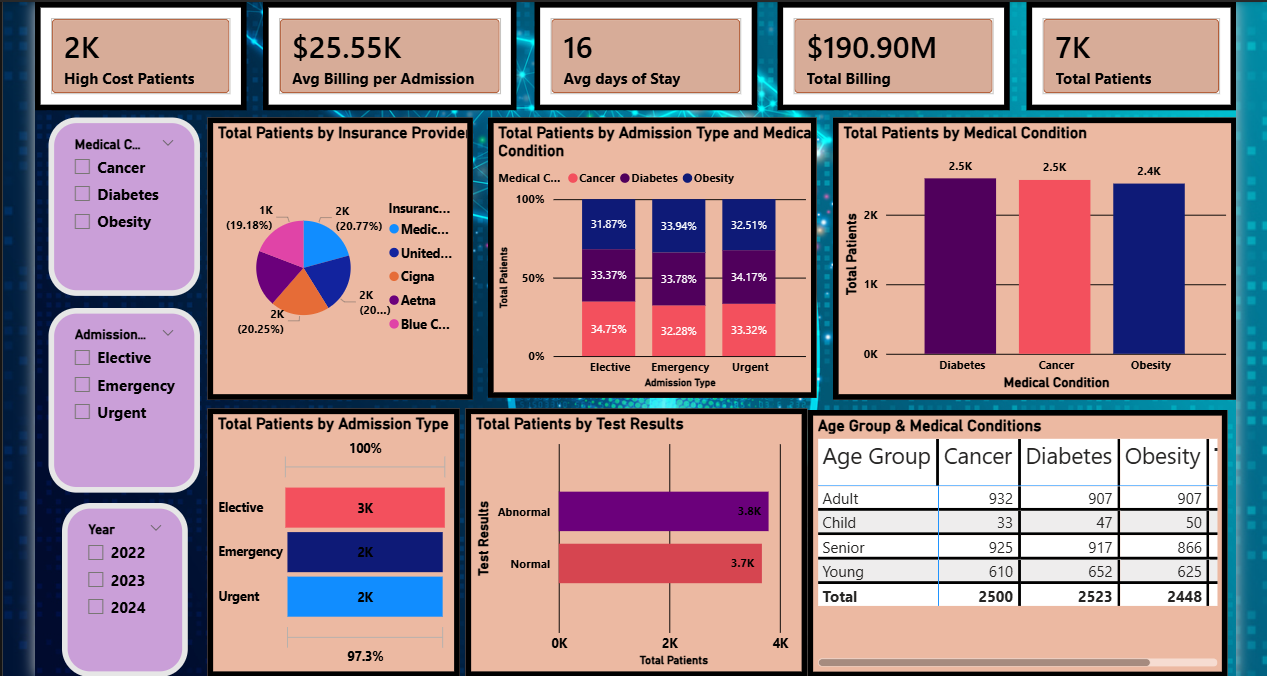

What the dashboard file says about the page in this screenshot:
{"tool":"powerbi","page":{"name":"Patient & Admission Analysis","canvas":[1280,720],"ordinal":0},"visuals":[{"type":"cardVisual","fields":{"Data":["Measures table.Total Patients"]},"box":[1056.1,0,223.7,115],"z":0},{"type":"cardVisual","fields":{"Data":["Measures table.Total Billing"]},"box":[790.5,0,247.2,115.5],"z":1000},{"type":"cardVisual","fields":{"Data":["Measures table.Avg Length of Stay"]},"box":[531.9,0,237.5,115.5],"z":2000},{"type":"cardVisual","fields":{"Data":["Measures table.Avg Billing per Admission"]},"box":[242.8,0,270,115],"z":3000},{"type":"cardVisual","fields":{"Data":["Measures table.High Cost Patients"]},"box":[0,0,225.3,115],"z":4000},{"type":"clusteredColumnChart","fields":{"Category":["healthcare_fact_table.Medical Condition"],"Y":["Measures table.Total Patients"]},"box":[850,123,429.8,300.4],"z":5000},{"type":"hundredPercentStackedColumnChart","fields":{"Category":["healthcare_fact_table.Admission Type"],"Y":["Measures table.Total Patients"],"Series":["healthcare_fact_table.Medical Condition"]},"box":[482.5,123,349.9,298.8],"z":6000},{"type":"funnel","fields":{"Category":["healthcare_fact_table.Admission Type"],"Y":["Measures table.Total Patients"]},"box":[183.7,433,268.4,286],"z":7000},{"type":"pieChart","fields":{"Category":["healthcare_fact_table.Insurance Provider"],"Y":["Measures table.Total Patients"]},"box":[183.7,123,282.8,300.4],"z":8000},{"type":"clusteredBarChart","fields":{"Category":["healthcare_fact_table.Test Results"],"Y":["Measures table.Total Patients"]},"box":[458.5,433,364.3,286],"z":9000},{"type":"pivotTable","title":"Age Group & Medical Conditions","fields":{"Values":["Measures table.Total Patients"],"Rows":["healthcare_fact_table.Age Group"],"Columns":["healthcare_fact_table.Medical Condition"]},"box":[822.8,434.6,447.3,284.4],"z":10000},{"type":"slicer","fields":{"Values":["healthcare_fact_table.Admission Type"]},"box":[14.4,325.9,161.4,196.5],"z":11000},{"type":"slicer","fields":{"Values":["healthcare_fact_table.Medical Condition"]},"box":[14.4,123,161.4,190.1],"z":12000},{"type":"slicer","fields":{"Values":["Calendar_Table.Year"]},"box":[28.8,533.6,134.2,185.3],"z":12001}]}

Visuals, with their boxes in screenshot pixels (x1, y1, x2, y2):
cardVisual - Measures table.Total Patients: BBox(1021, 3, 1229, 110)
cardVisual - Measures table.Total Billing: BBox(775, 3, 1004, 110)
cardVisual - Measures table.Avg Length of Stay: BBox(536, 3, 756, 110)
cardVisual - Measures table.Avg Billing per Admission: BBox(268, 3, 518, 110)
cardVisual - Measures table.High Cost Patients: BBox(43, 3, 252, 110)
clusteredColumnChart - healthcare_fact_table.Medical Condition x Measures table.Total Patients: BBox(830, 117, 1229, 396)
hundredPercentStackedColumnChart - healthcare_fact_table.Admission Type x Measures table.Total Patients: BBox(490, 117, 814, 394)
funnel - healthcare_fact_table.Admission Type x Measures table.Total Patients: BBox(213, 404, 462, 669)
pieChart - healthcare_fact_table.Insurance Provider x Measures table.Total Patients: BBox(213, 117, 475, 396)
clusteredBarChart - healthcare_fact_table.Test Results x Measures table.Total Patients: BBox(468, 404, 805, 669)
"Age Group & Medical Conditions" pivotTable: BBox(805, 406, 1220, 669)
slicer - healthcare_fact_table.Admission Type: BBox(56, 305, 206, 487)
slicer - healthcare_fact_table.Medical Condition: BBox(56, 117, 206, 293)
slicer - Calendar_Table.Year: BBox(70, 498, 194, 669)
